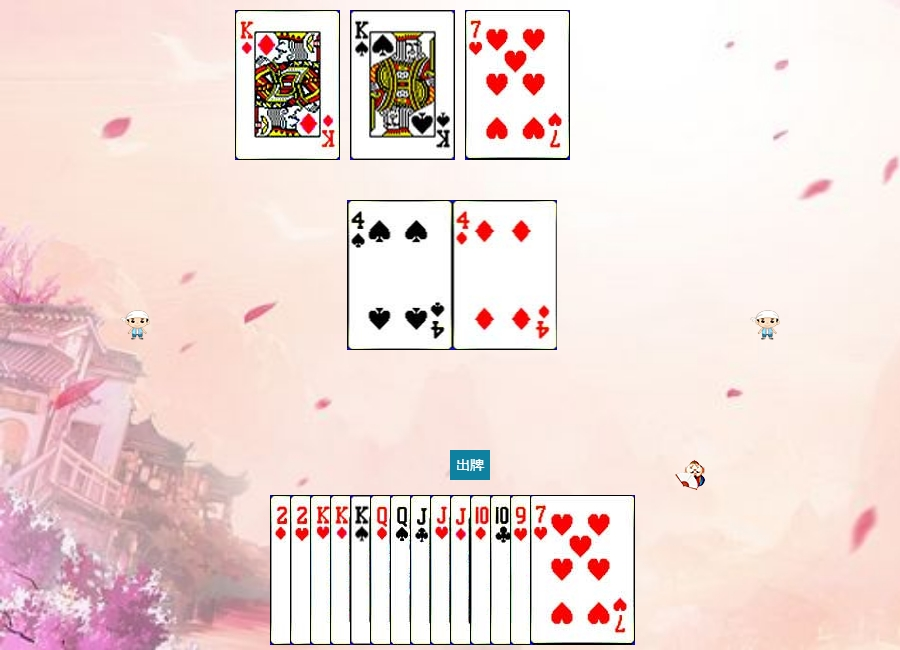10~1: (470, 495, 575, 645)
10~2: (490, 495, 595, 645)
11~1: (450, 495, 555, 645)
11~2: (410, 495, 515, 645)
11~3: (430, 495, 535, 645)
12~1: (370, 495, 475, 645)
12~4: (390, 495, 495, 645)
13~1: (235, 10, 340, 160), (330, 495, 435, 645)
13~3: (310, 495, 415, 645)
13~4: (350, 10, 455, 160), (350, 495, 455, 645)
15~1: (270, 495, 375, 645)
15~3: (290, 495, 395, 645)
4~1: (453, 200, 558, 350)
4~4: (348, 200, 453, 350)
7~3: (465, 10, 570, 160), (530, 495, 635, 645)
9~3: (510, 495, 615, 645)
